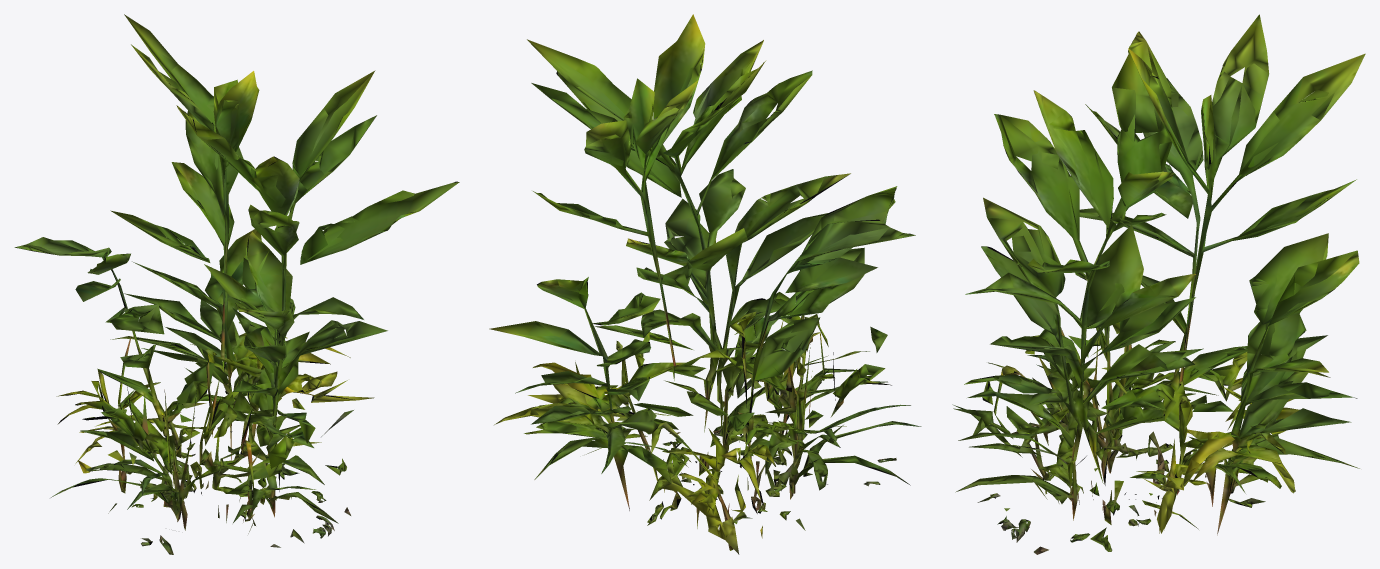
Rendered from plant_ginger_a.glb.
3 views of the same model, side by side, from view 1: azimuth 30°, elevation 25°; view 2: azimuth 150°, elevation 25°; view 3: azimuth 270°, elevation 25° (orthographic). The views are drawn at different scales.
Visible parts, largest first — view 1: lo; view 2: lo; view 3: lo.
Part boxes in pixels (x1,y1,x2,y2): lo: [14, 14, 459, 554]; lo: [489, 14, 921, 554]; lo: [952, 14, 1365, 554].
Size of the model in its own units: 1.79 by 1.93 by 1.5.
1 material, 1 textured.
